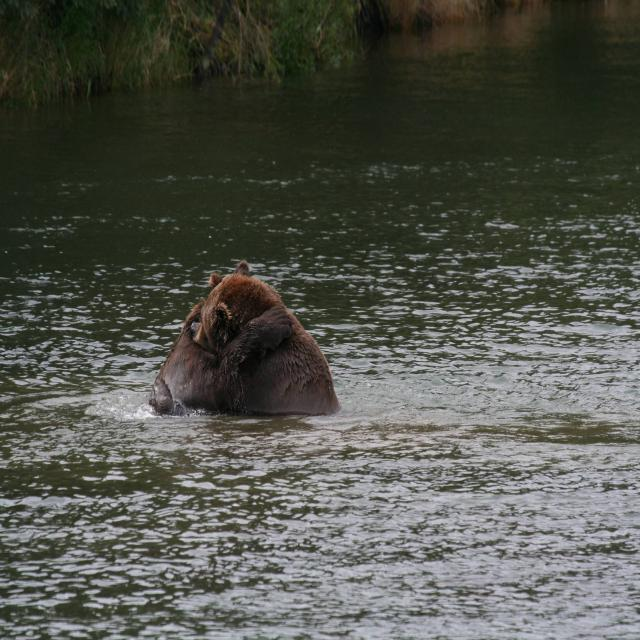bear face: (192, 256, 338, 412), (148, 301, 292, 411)
